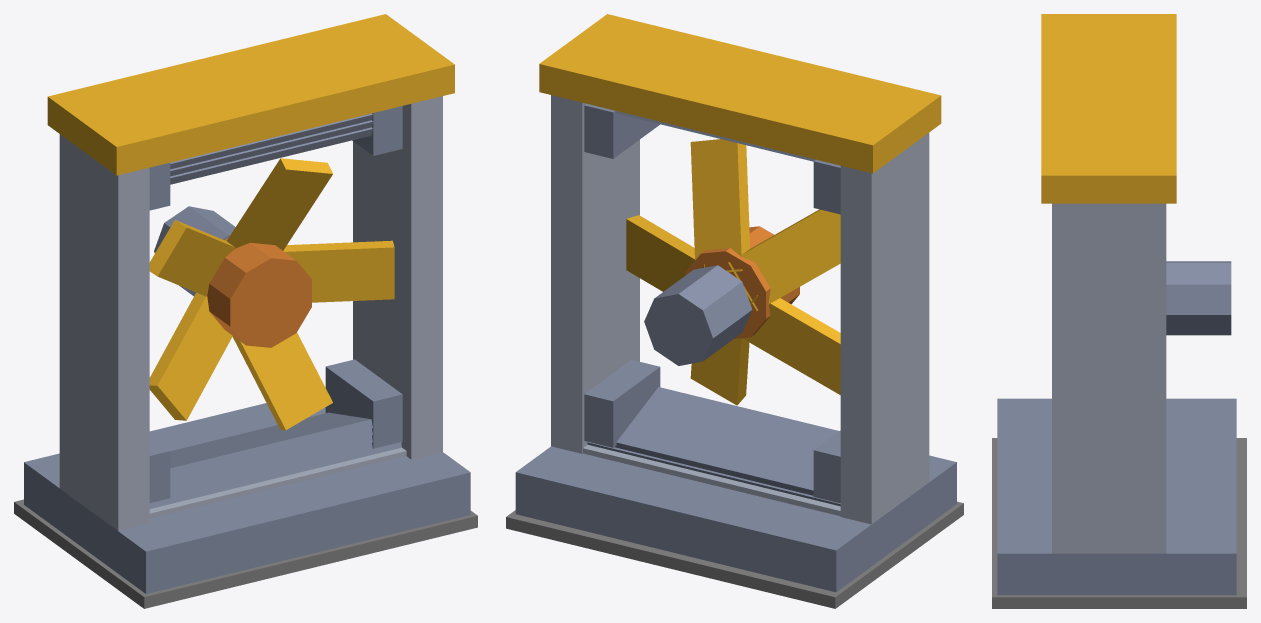
The model's file is fan_strong.glb.
3 views of the same model, side by side, from view 1: azimuth 30°, elevation 25°; view 2: azimuth 150°, elevation 25°; view 3: azimuth 270°, elevation 25° (orthographic). The views are drawn at different scales.
Visible parts, largest first — view 1: fan_strong; view 2: fan_strong; view 3: fan_strong.
Boxes of the visible parts, x1,y1,x2,y2 form: fan_strong: (14,14,477,608); fan_strong: (506,14,963,608); fan_strong: (992,14,1246,608).
Bounding box in the file's own units: 1.5 × 1.88 × 1.
